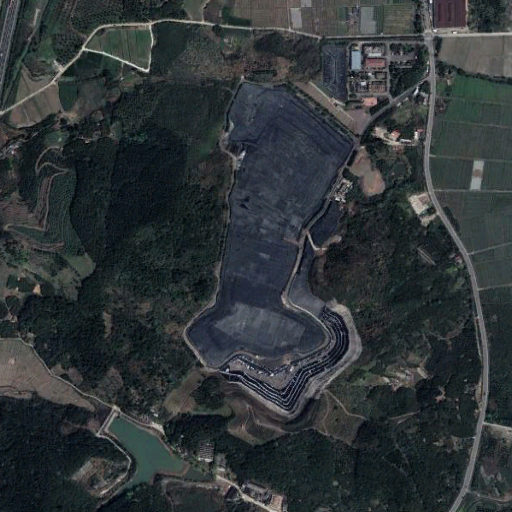lf: (183, 78, 365, 418)
